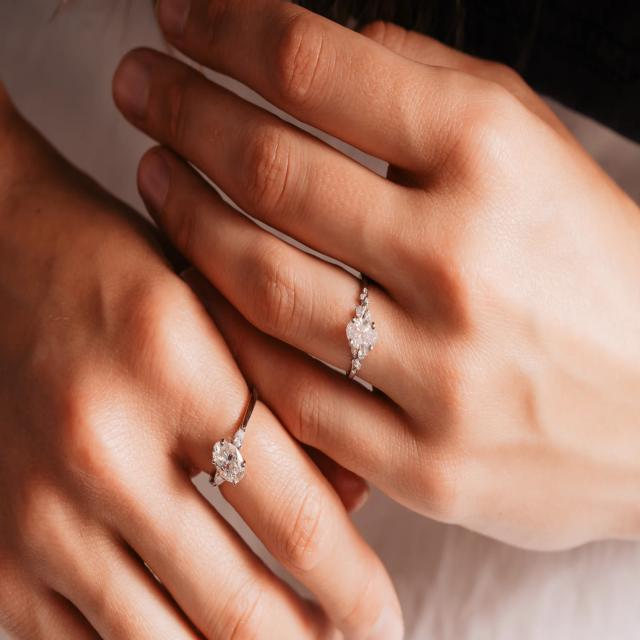Ring: (173, 382, 290, 502), (327, 269, 400, 386)
